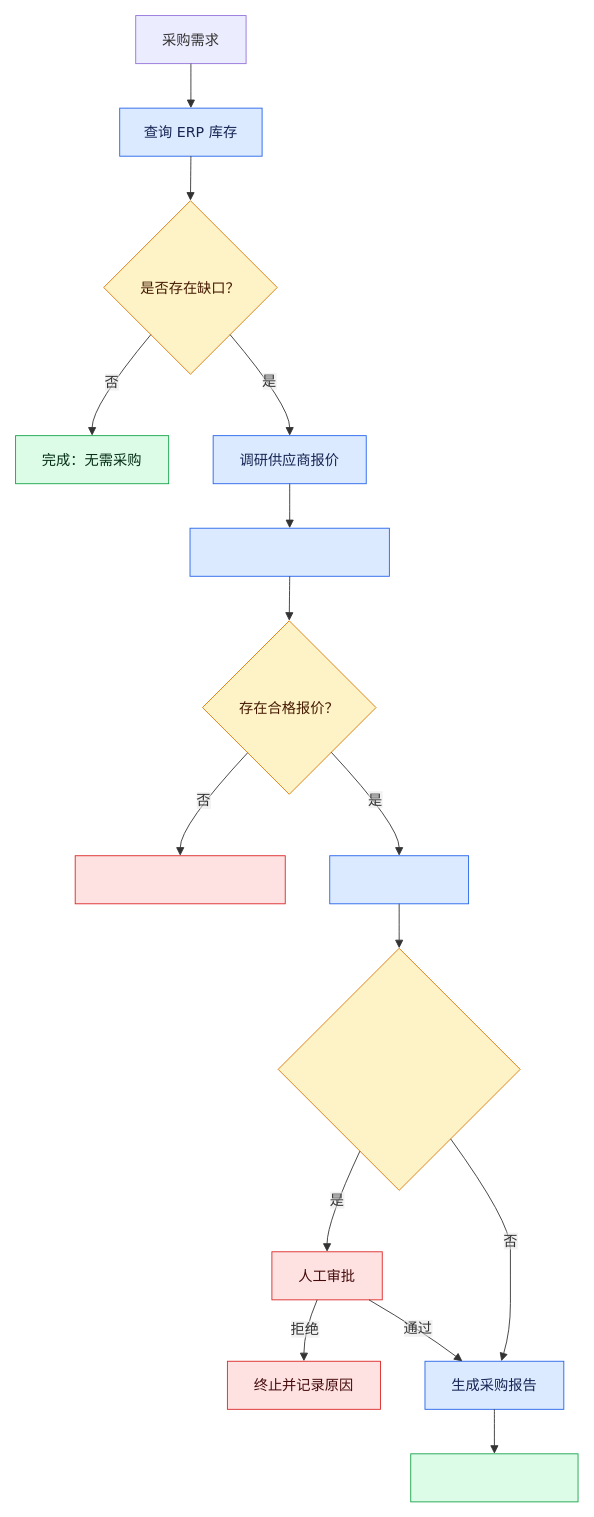
The diagram is 594 pixels wide and 1517 high, and some of its shapes have lost their labels. Each missing label, with the centre of its shape:
失败：记录无合格供应商: the point at 179,879
完成：报告已生成: the point at 494,1477
计算采购建议: the point at 399,879
资格 + 账期 + 价格筛选: the point at 289,551
金额达到或超过阈值？: the point at 398,1068
